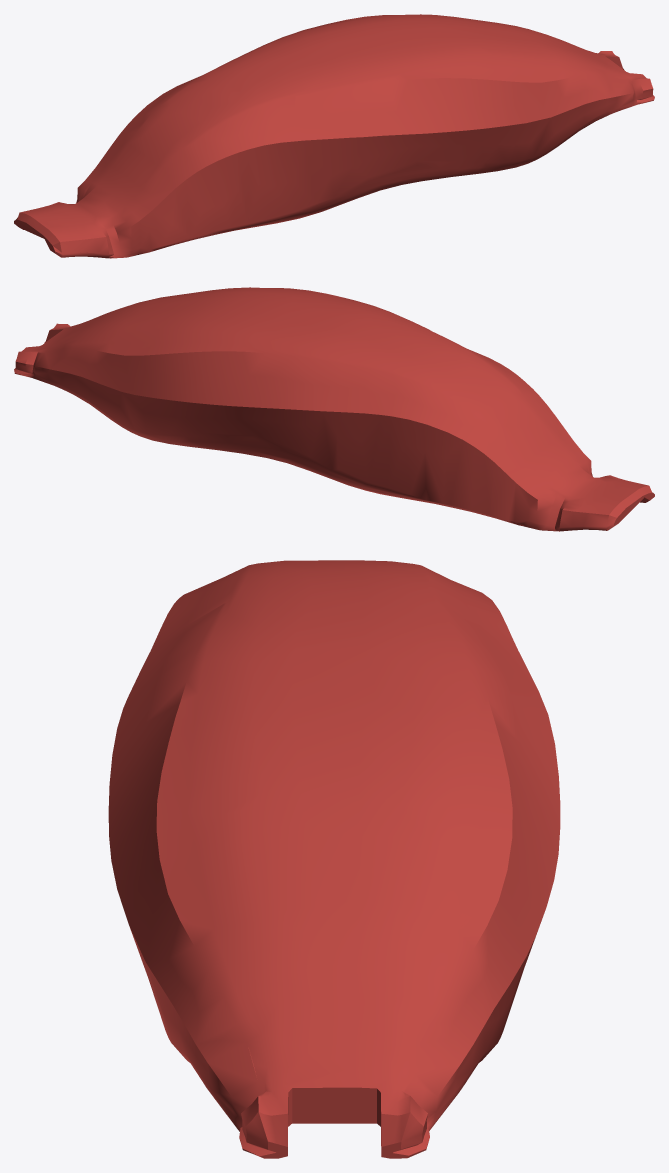
File: sports_tourer_3_lod2.glb
3 views of the same model, one above another, from view 1: azimuth 30°, elevation 25°; view 2: azimuth 150°, elevation 25°; view 3: azimuth 270°, elevation 25° (orthographic). The views are drawn at different scales.
Parts seen in each view (by area): view 1: sports_tourer_3_lod2; view 2: sports_tourer_3_lod2; view 3: sports_tourer_3_lod2.
Part boxes in pixels (bbox=[...]): sports_tourer_3_lod2: bbox=[14, 14, 654, 258]; sports_tourer_3_lod2: bbox=[14, 287, 654, 531]; sports_tourer_3_lod2: bbox=[108, 560, 560, 1158].
Bounding box in the file's own units: 1.29 × 0.2681 × 0.4178.
